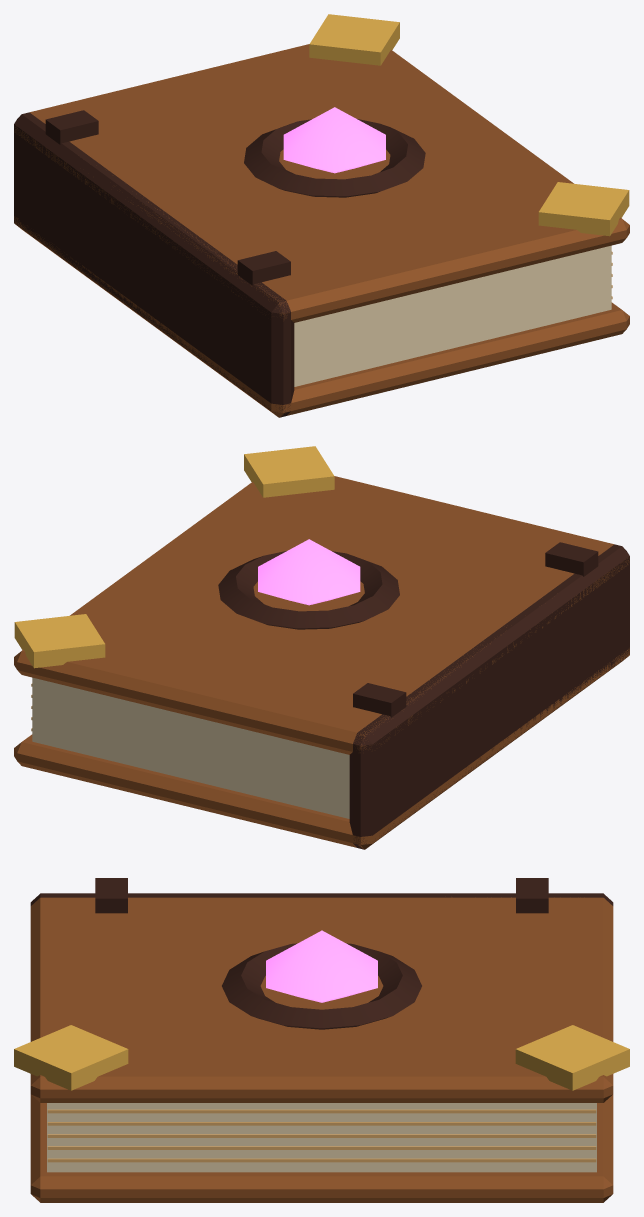
The model's file is Spell_Book_Closed.fbx.
The picture shows the model from 3 angles, top to bottom: view 1: azimuth 30°, elevation 25°; view 2: azimuth 150°, elevation 25°; view 3: azimuth 270°, elevation 25°; orthographic projection. The views are drawn at different scales.
Parts seen in each view (by area): view 1: Spell_Book_Closed_Cover_Front, Spell_Book_Closed_Cover_Back, Spell_Book_Closed_Pages, Spell_Book_Closed_Decoration; view 2: Spell_Book_Closed_Cover_Front, Spell_Book_Closed_Cover_Back, Spell_Book_Closed_Pages, Spell_Book_Closed_Decoration; view 3: Spell_Book_Closed_Cover_Front, Spell_Book_Closed_Pages, Spell_Book_Closed_Decoration, Spell_Book_Closed_Cover_Back.
Boxes of the visible parts, x1,y1,x2,y2 form: Spell_Book_Closed_Cover_Front: (14, 44, 629, 322); Spell_Book_Closed_Cover_Back: (14, 112, 629, 417); Spell_Book_Closed_Pages: (294, 245, 612, 386); Spell_Book_Closed_Decoration: (45, 14, 629, 285); Spell_Book_Closed_Cover_Front: (14, 476, 629, 754); Spell_Book_Closed_Cover_Back: (14, 544, 629, 849); Spell_Book_Closed_Pages: (31, 677, 349, 818); Spell_Book_Closed_Decoration: (14, 446, 598, 717); Spell_Book_Closed_Cover_Front: (30, 897, 613, 1102); Spell_Book_Closed_Pages: (47, 1103, 596, 1172); Spell_Book_Closed_Decoration: (14, 878, 629, 1090); Spell_Book_Closed_Cover_Back: (30, 893, 613, 1202).
Bounding box in the file's own units: 0.2904 × 0.128 × 0.3807.
